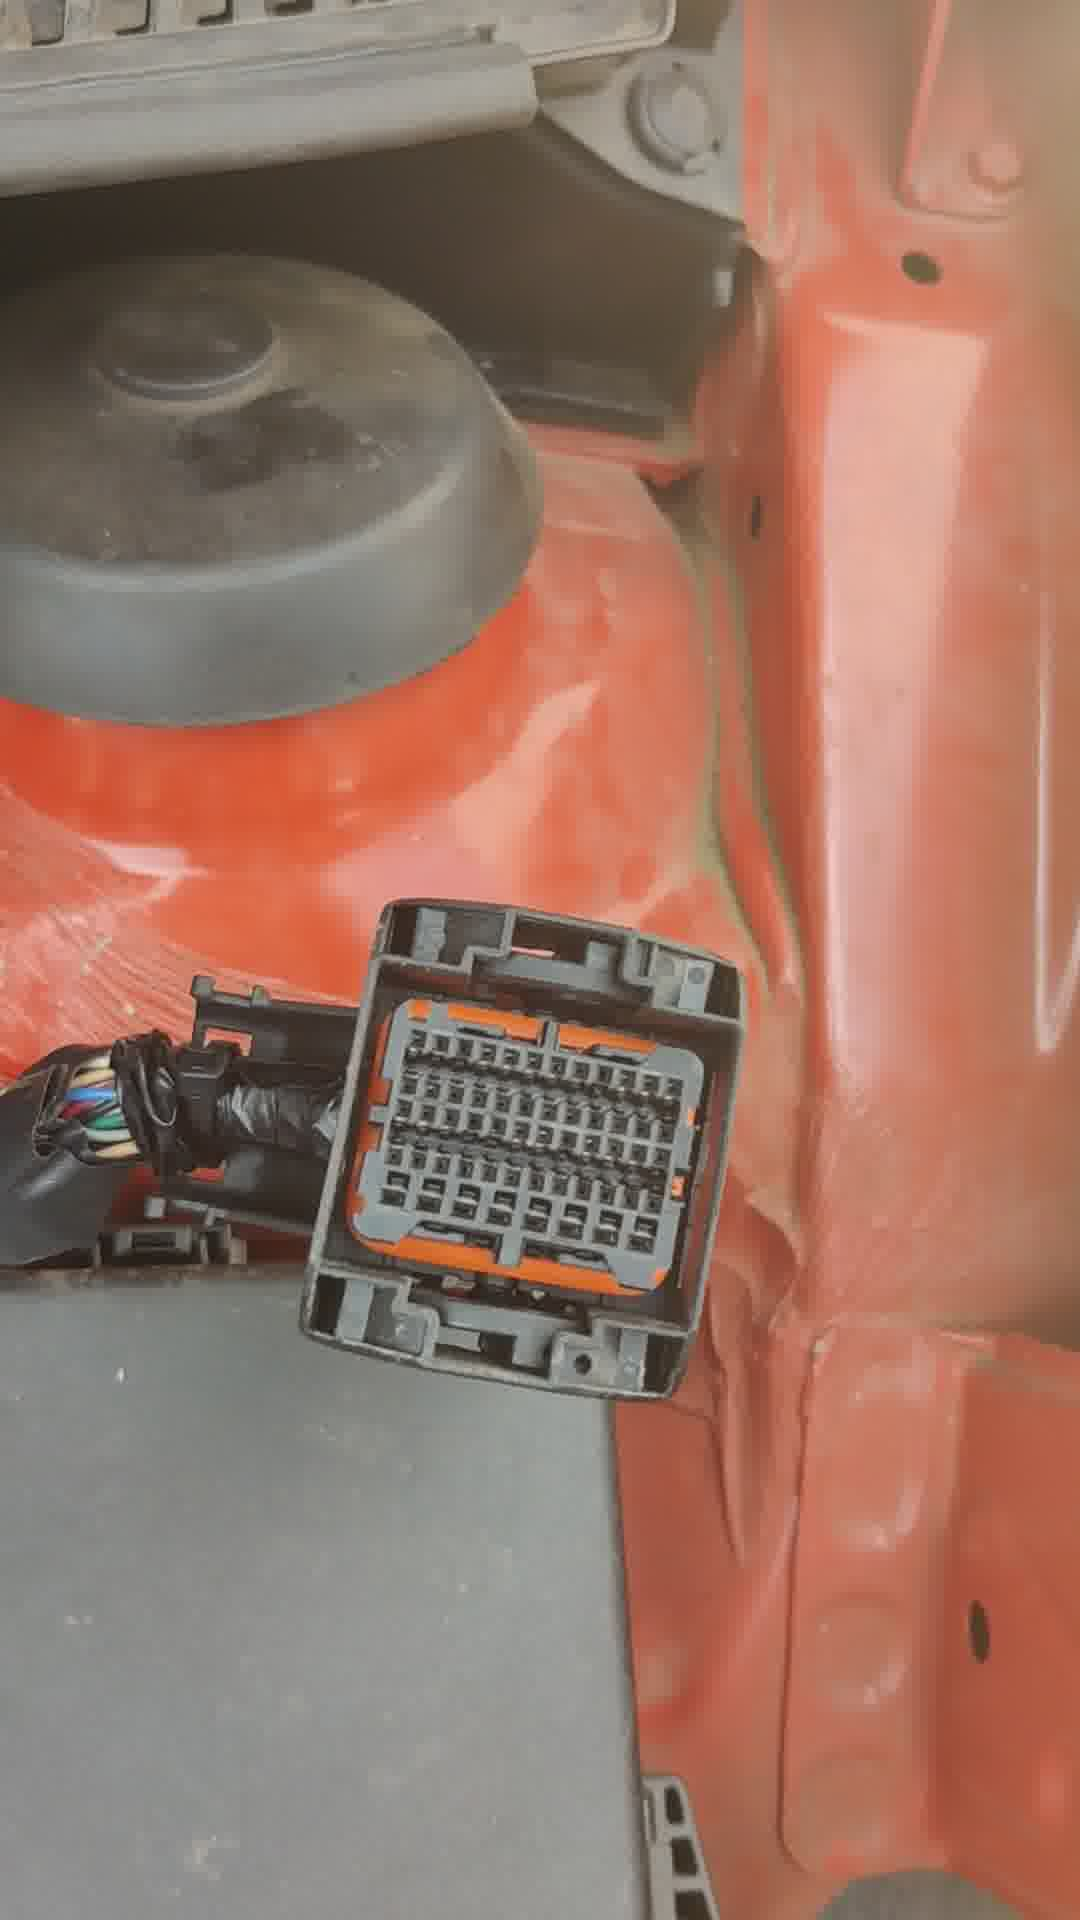connector: (294, 889, 748, 1404)
